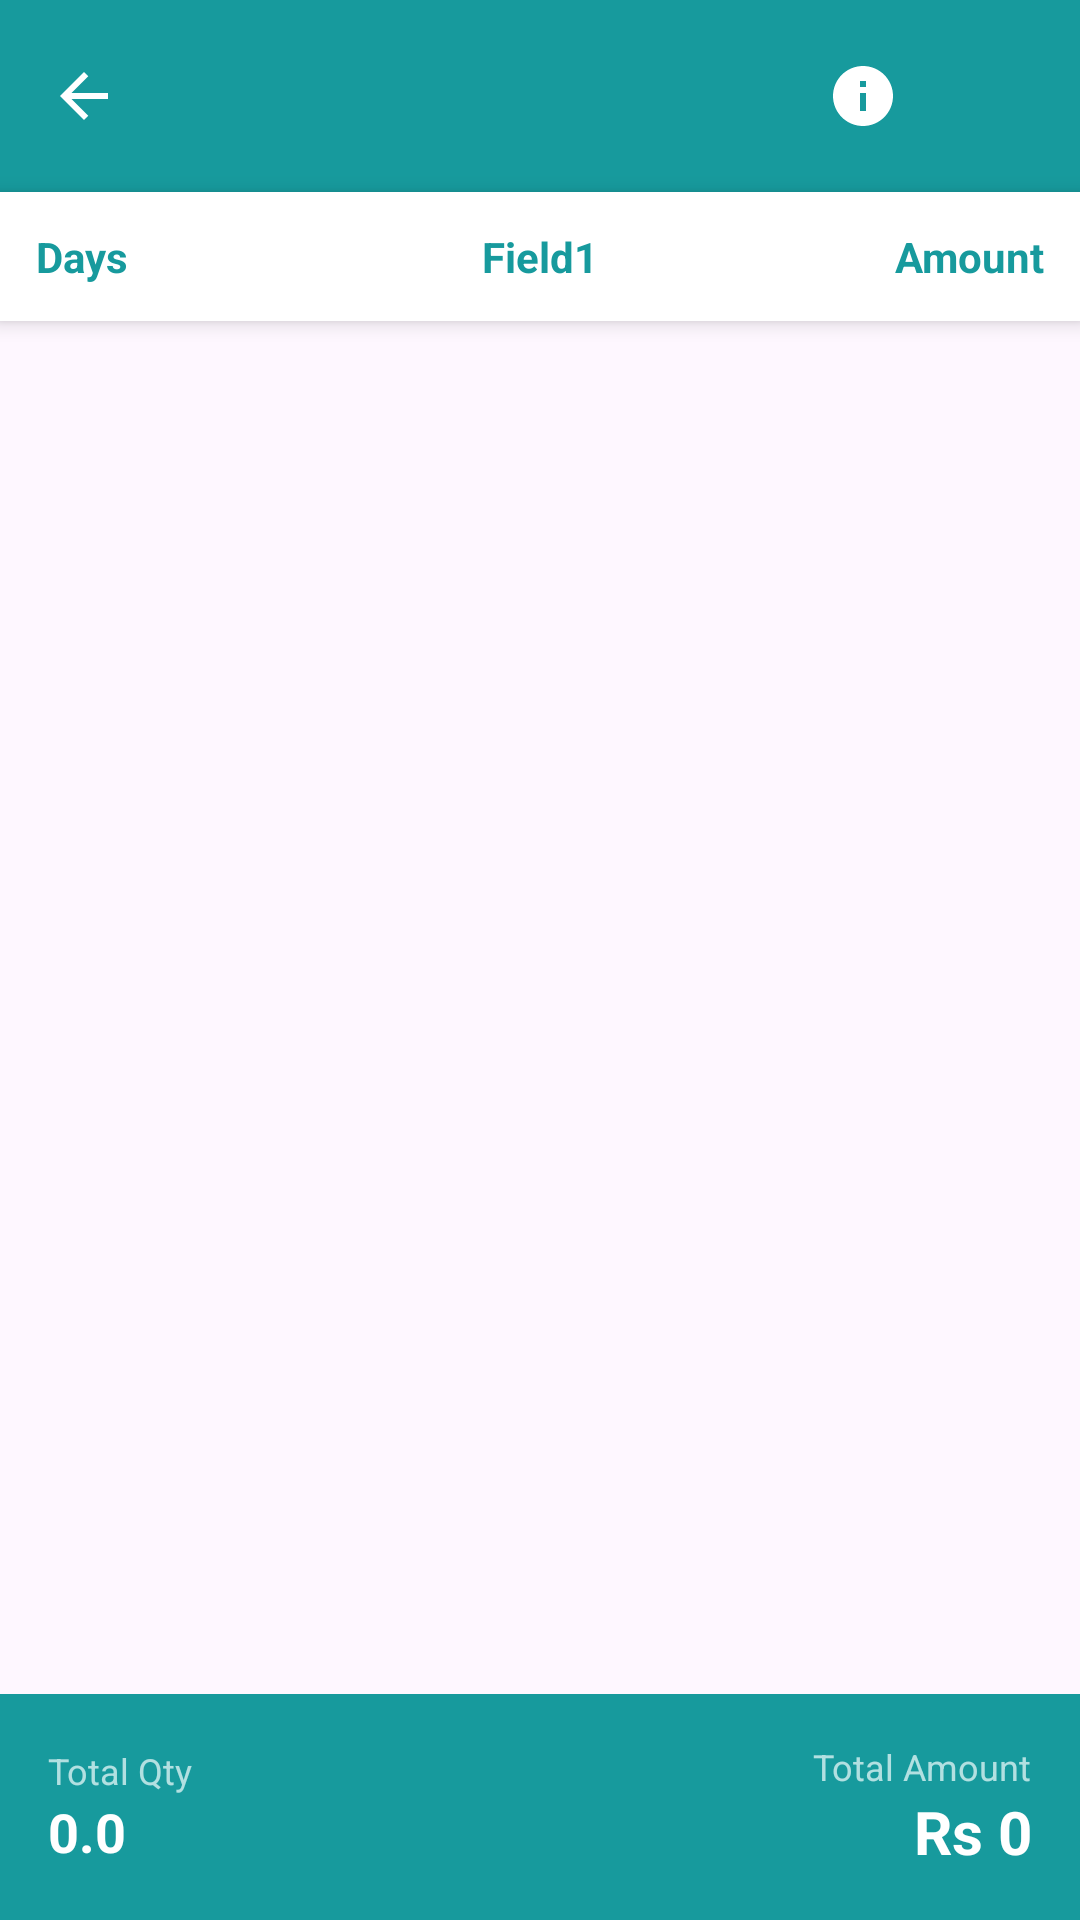

Screen size 1080×1920. Icon name, then its box in pixels as (left=x1, top=y1, right=x2, bottom=y2):
Price Info: (left=833, top=66, right=893, bottom=126)
